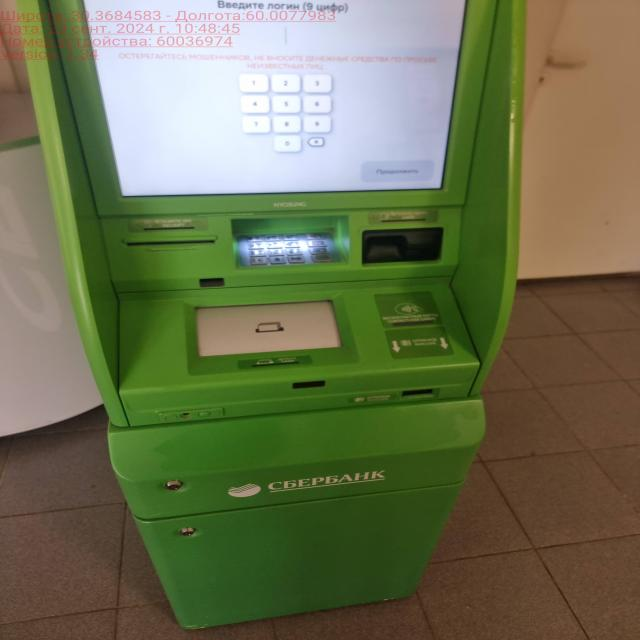bank: (19, 0, 523, 630)
